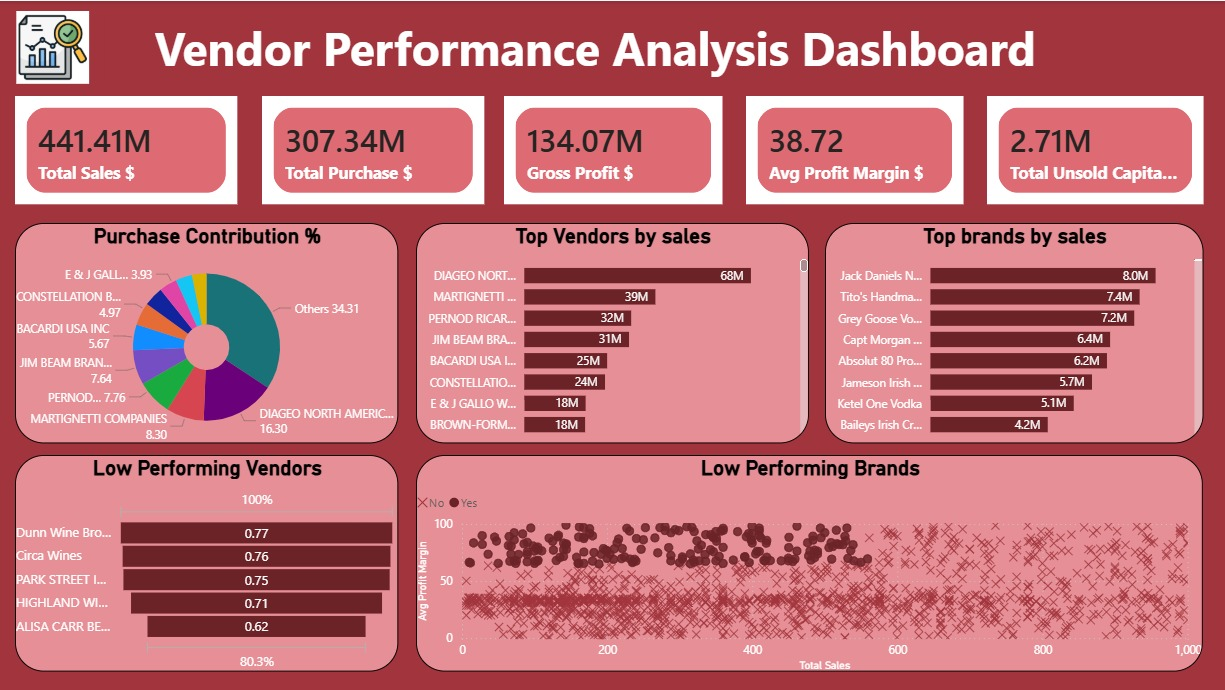

The page's visual inventory and layout, read from the dashboard file:
{"tool":"powerbi","page":{"name":"Page 1","canvas":[1280,720],"ordinal":0},"visuals":[{"type":"image","box":[0,10.3,109.2,75.8],"z":0},{"type":"textbox","box":[156.8,10.3,966.4,75.8],"z":1000},{"type":"cardVisual","fields":{"Data":["vendor_sales_summary.TotalSalesDollars"]},"box":[15.4,99,232.6,113.1],"z":2000},{"type":"cardVisual","fields":{"Data":["vendor_sales_summary.TotalPurchaseDollars"]},"box":[273.7,99,232.6,113.1],"z":3000},{"type":"cardVisual","fields":{"Data":["vendor_sales_summary.GrossProfit"]},"box":[525.6,99,228.8,113.1],"z":4000},{"type":"cardVisual","fields":{"Data":["vendor_sales_summary.ProfitMargin"]},"box":[778.8,99,227.5,113.1],"z":5000},{"type":"cardVisual","fields":{"Data":["vendor_sales_summary.UnsoldCapital"]},"box":[1029.4,99,226.2,113.1],"z":6000},{"type":"donutChart","title":"Purchase Contribution %","fields":{"Category":["PurchaseContribution.VendorGroup"],"Y":["PurchaseContribution.PurchaseContribution%"]},"box":[15.4,231.3,399.7,230],"z":7000},{"type":"barChart","title":"Top Vendors by sales","fields":{"Category":["vendor_sales_summary.VendorName"],"Y":["vendor_sales_summary.TotalSalesDollars"]},"box":[434.4,231.3,410,230],"z":8000},{"type":"barChart","title":"Top brands by sales","fields":{"Category":["vendor_sales_summary.Description"],"Y":["vendor_sales_summary.TotalSalesDollars"]},"box":[861,231.3,394.5,230],"z":9000},{"type":"funnel","title":"Low Performing Vendors","fields":{"Category":["LowTurnoverVendor.VendorName"],"Y":["LowTurnoverVendor.AvgStockTurnOver"]},"box":[15.4,474.2,399.7,226.2],"z":10000},{"type":"scatterChart","title":"Low Performing Brands","fields":{"Category":["BrandPerformance.Description"],"X":["BrandPerformance.TotalSales"],"Y":["BrandPerformance.AvgProfitMargin"],"Series":["BrandPerformance.1 TargetBrand"]},"box":[434.4,474.2,821.2,226.2],"z":11000}]}

Visuals, with their boxes in screenshot pixels (x1, y1, x2, y2), scaled from the page's 1280x720 canvas onto the 1225x690 screenshot:
image: {"x1": 0, "y1": 10, "x2": 105, "y2": 83}
textbox: {"x1": 150, "y1": 10, "x2": 1075, "y2": 83}
cardVisual - vendor_sales_summary.TotalSalesDollars: {"x1": 15, "y1": 95, "x2": 237, "y2": 203}
cardVisual - vendor_sales_summary.TotalPurchaseDollars: {"x1": 262, "y1": 95, "x2": 485, "y2": 203}
cardVisual - vendor_sales_summary.GrossProfit: {"x1": 503, "y1": 95, "x2": 722, "y2": 203}
cardVisual - vendor_sales_summary.ProfitMargin: {"x1": 745, "y1": 95, "x2": 963, "y2": 203}
cardVisual - vendor_sales_summary.UnsoldCapital: {"x1": 985, "y1": 95, "x2": 1202, "y2": 203}
"Purchase Contribution %" donutChart: {"x1": 15, "y1": 222, "x2": 397, "y2": 442}
"Top Vendors by sales" barChart: {"x1": 416, "y1": 222, "x2": 808, "y2": 442}
"Top brands by sales" barChart: {"x1": 824, "y1": 222, "x2": 1202, "y2": 442}
"Low Performing Vendors" funnel: {"x1": 15, "y1": 454, "x2": 397, "y2": 671}
"Low Performing Brands" scatterChart: {"x1": 416, "y1": 454, "x2": 1202, "y2": 671}
